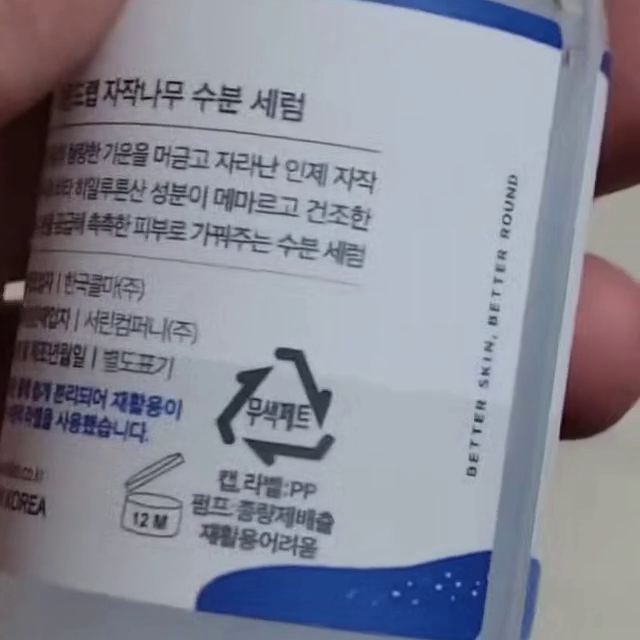ColorlessPet: (218, 347, 336, 468)
